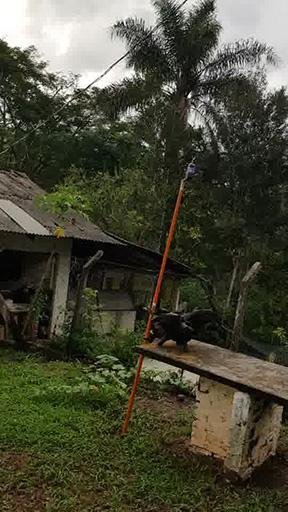Vara_Manobra: (123, 181, 185, 435)
